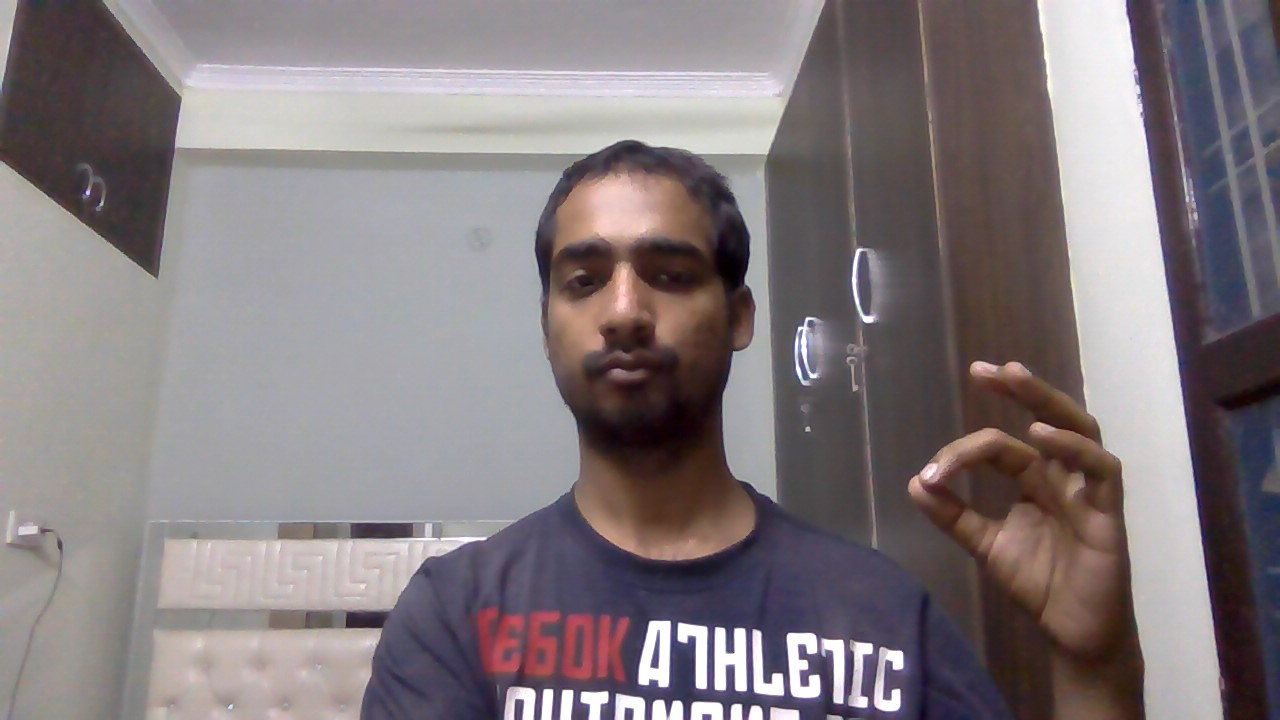Copy: (896, 348, 1168, 677)
